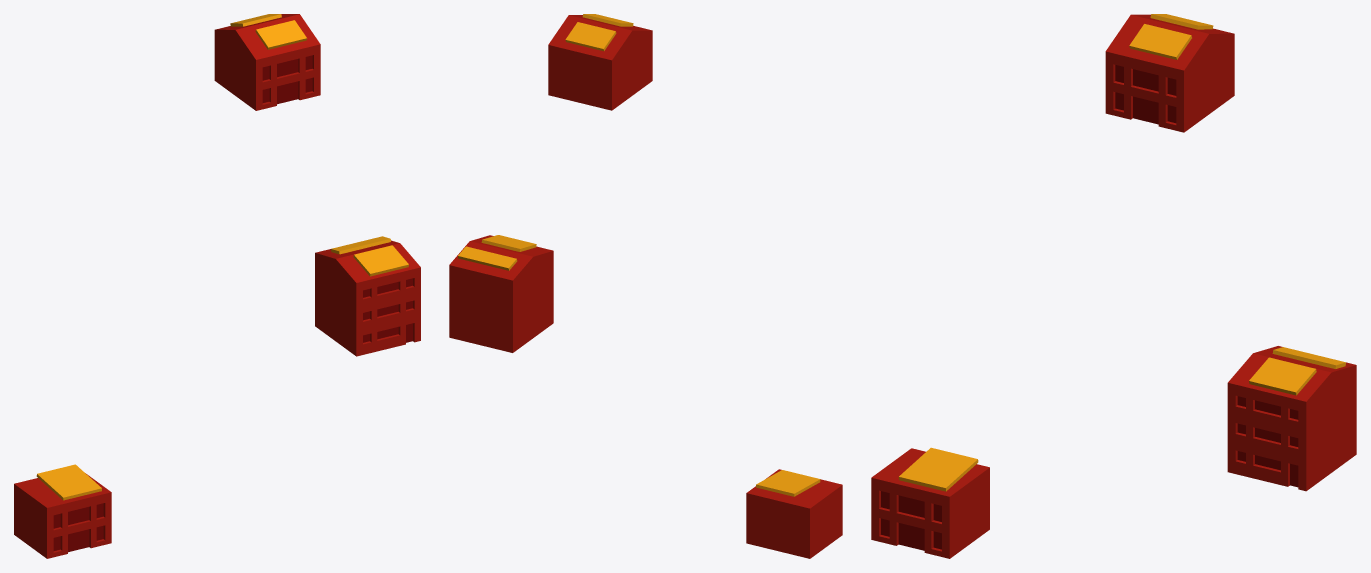
File: BinaGrup3.gltf
3 views of the same model, side by side, from view 1: azimuth 30°, elevation 25°; view 2: azimuth 150°, elevation 25°; view 3: azimuth 330°, elevation 25° (orthographic). The views are drawn at different scales.
Visible parts, largest first — view 1: Building_051.003, Building_042.003, Building_031.003, Building_031_RoofCap_0.001, Building_051_RoofCap_0.001, Building_042_RoofCap_0.001, Building_051.005, Building_031.005, Building_042.005; view 2: Building_051.003, Building_042.003, Building_031.003, Building_031_RoofCap_0.001, Building_042_RoofCap_1.001, Building_051_RoofCap_1.001, Building_051_RoofCap_0.001; view 3: Building_051.003, Building_042.003, Building_031.003, Building_031_RoofCap_0.001, Building_051_RoofCap_0.001, Building_042_RoofCap_0.001, Building_051.005, Building_042.005, Building_031.005, Building_051_RoofCap_1.001, Building_031.004.
Part boxes in pixels (left/top/right/bottom): Building_051.003: left=315, top=240, right=420, bottom=356; Building_042.003: left=214, top=14, right=320, bottom=110; Building_031.003: left=14, top=473, right=111, bottom=558; Building_031_RoofCap_0.001: left=36, top=464, right=101, bottom=500; Building_051_RoofCap_0.001: left=353, top=245, right=408, bottom=276; Building_042_RoofCap_0.001: left=255, top=20, right=306, bottom=49; Building_051.005: left=363, top=278, right=412, bottom=342; Building_031.005: left=53, top=503, right=103, bottom=550; Building_042.005: left=262, top=55, right=312, bottom=102; Building_051.003: left=449, top=235, right=553, bottom=352; Building_042.003: left=548, top=15, right=652, bottom=110; Building_031.003: left=746, top=469, right=842, bottom=558; Building_031_RoofCap_0.001: left=756, top=470, right=820, bottom=496; Building_042_RoofCap_1.001: left=565, top=22, right=616, bottom=51; Building_051_RoofCap_1.001: left=458, top=246, right=517, bottom=270; Building_051_RoofCap_0.001: left=481, top=235, right=536, bottom=251; Building_051.003: left=1227, top=346, right=1356, bottom=491; Building_042.003: left=1105, top=14, right=1234, bottom=132; Building_031.003: left=871, top=448, right=989, bottom=558; Building_031_RoofCap_0.001: left=898, top=447, right=978, bottom=491; Building_051_RoofCap_0.001: left=1249, top=357, right=1316, bottom=395; Building_042_RoofCap_0.001: left=1129, top=24, right=1191, bottom=59; Building_051.005: left=1237, top=396, right=1298, bottom=470; Building_042.005: left=1115, top=65, right=1176, bottom=123; Building_031.005: left=881, top=491, right=941, bottom=549; Building_051_RoofCap_1.001: left=1272, top=347, right=1345, bottom=368; Building_031.004: left=898, top=523, right=924, bottom=550.
Size of the model in its own units: 0.2772 by 0.3413 by 0.0543.
